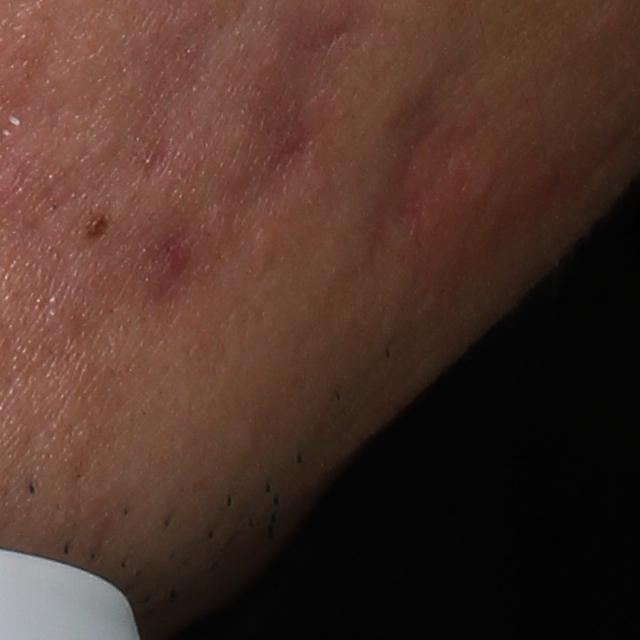atrophic_scar: (361, 58, 476, 268), (249, 7, 356, 190), (144, 210, 228, 296)
nevus: (79, 210, 111, 245)
